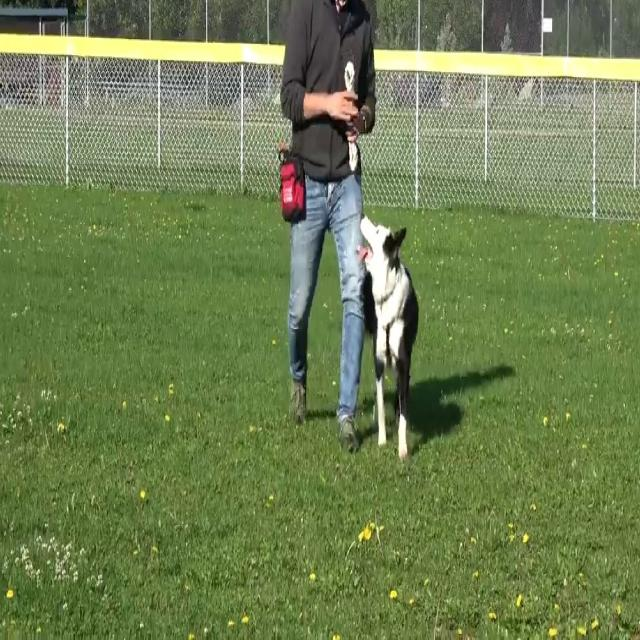Unleashed_Dog: (310, 171, 419, 460)
